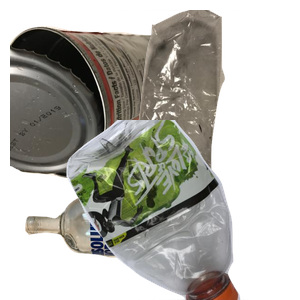glass: (22, 192, 234, 300)
metal: (10, 23, 193, 194)
plastic: (64, 120, 300, 300)
trash: (114, 10, 300, 190)
